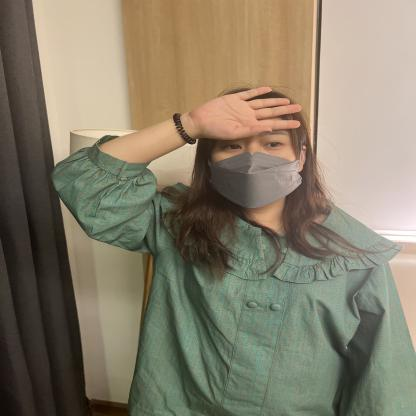Sick: (152, 63, 323, 155)
